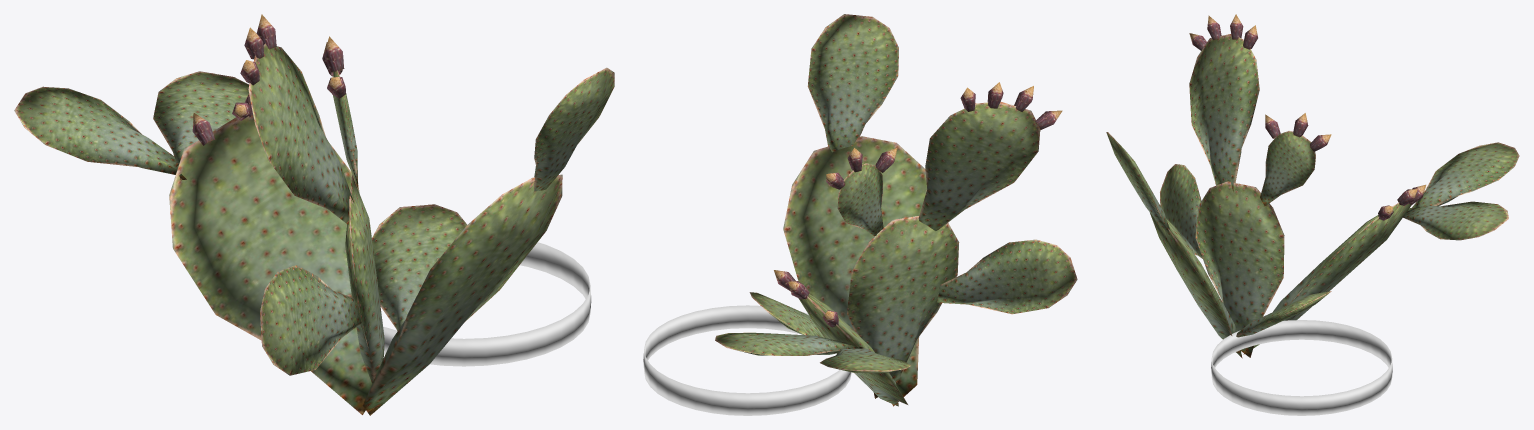
Rendered from static_cactus_small.fbx.
The picture shows the model from 3 angles, left to right: view 1: azimuth 30°, elevation 25°; view 2: azimuth 150°, elevation 25°; view 3: azimuth 270°, elevation 25°; orthographic projection. The views are drawn at different scales.
Parts seen in each view (by area): view 1: cactus, Torus; view 2: cactus, Torus; view 3: cactus, Torus.
Part boxes in pixels (box(x1,y1,x2,y2)): cactus: box(14, 14, 614, 415); Torus: box(383, 242, 591, 366); cactus: box(715, 14, 1077, 406); Torus: box(643, 305, 851, 415); cactus: box(1106, 14, 1519, 358); Torus: box(1211, 320, 1392, 415).
Bounding box in the file's own units: 1.93 × 1.83 × 2.28.
Materials: 1 (1 with a texture image).
